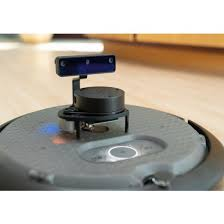turtlebot: (1, 52, 224, 190)
